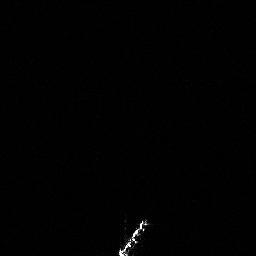ship: (114, 215, 151, 256)
